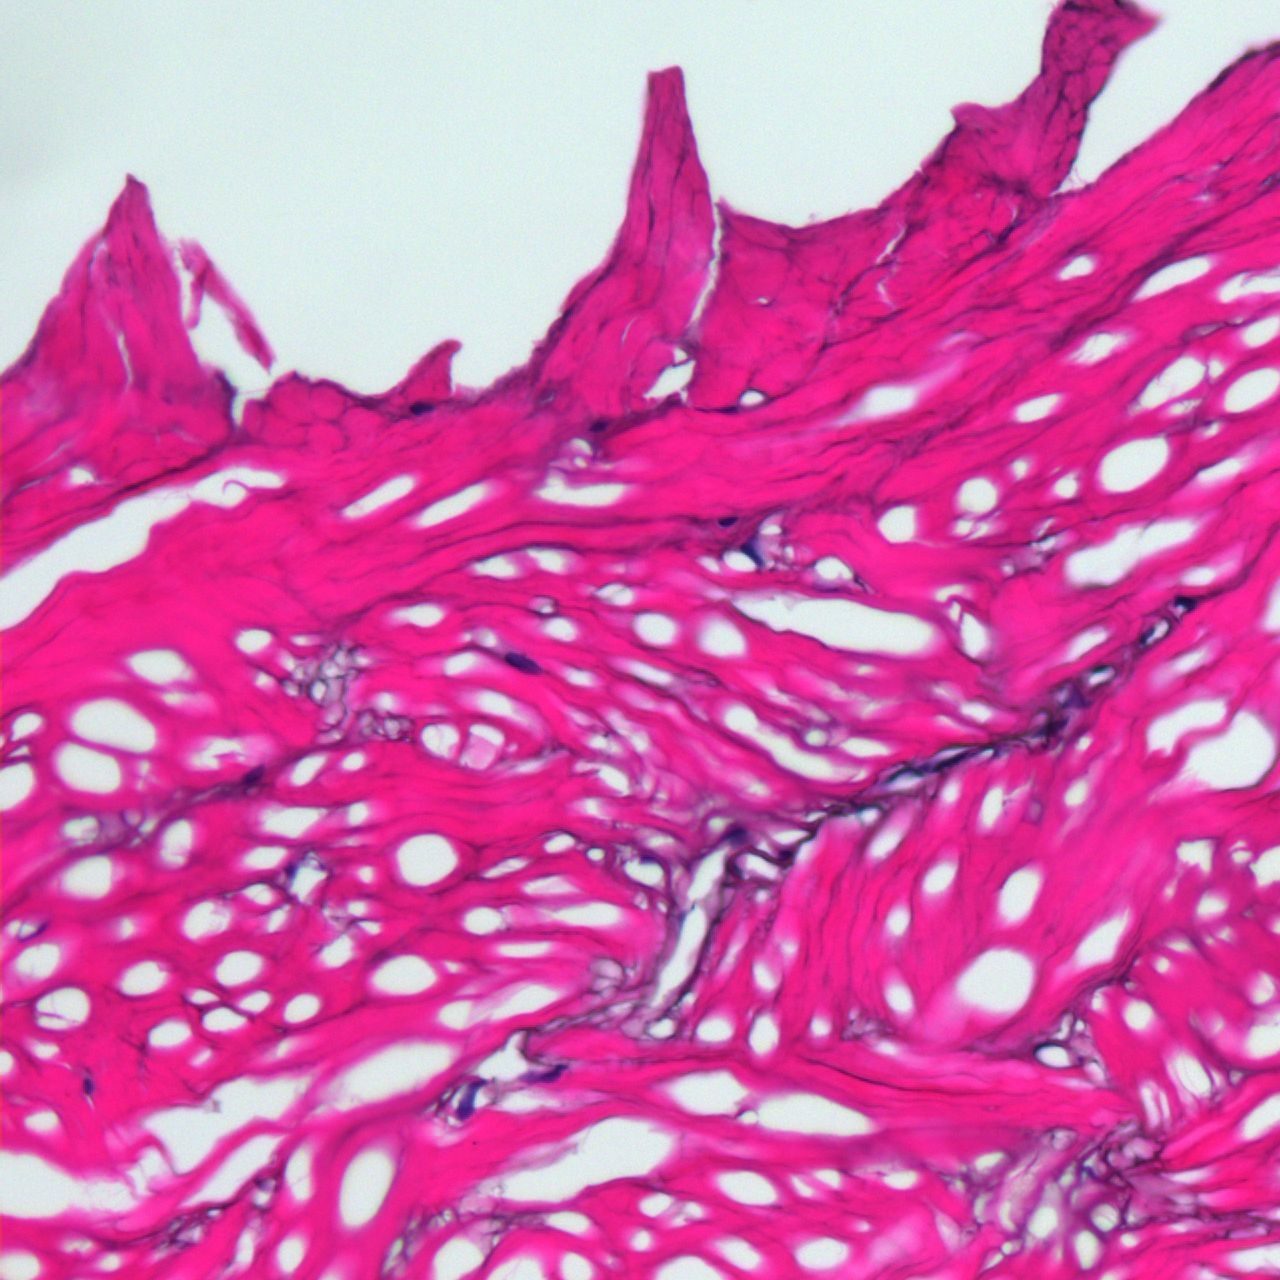nucleus-HE: (452, 1081, 483, 1122), (503, 648, 542, 678), (930, 749, 971, 774), (738, 540, 763, 566), (241, 763, 267, 787), (1175, 594, 1197, 610), (726, 825, 747, 840), (410, 401, 433, 414), (590, 418, 608, 434), (719, 516, 737, 527), (1092, 663, 1107, 674), (84, 1078, 91, 1092)
